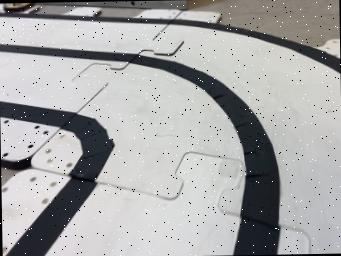street: (0, 13, 341, 256), (0, 13, 341, 256), (0, 13, 341, 256), (0, 13, 341, 256), (0, 13, 341, 256), (0, 13, 341, 256)
